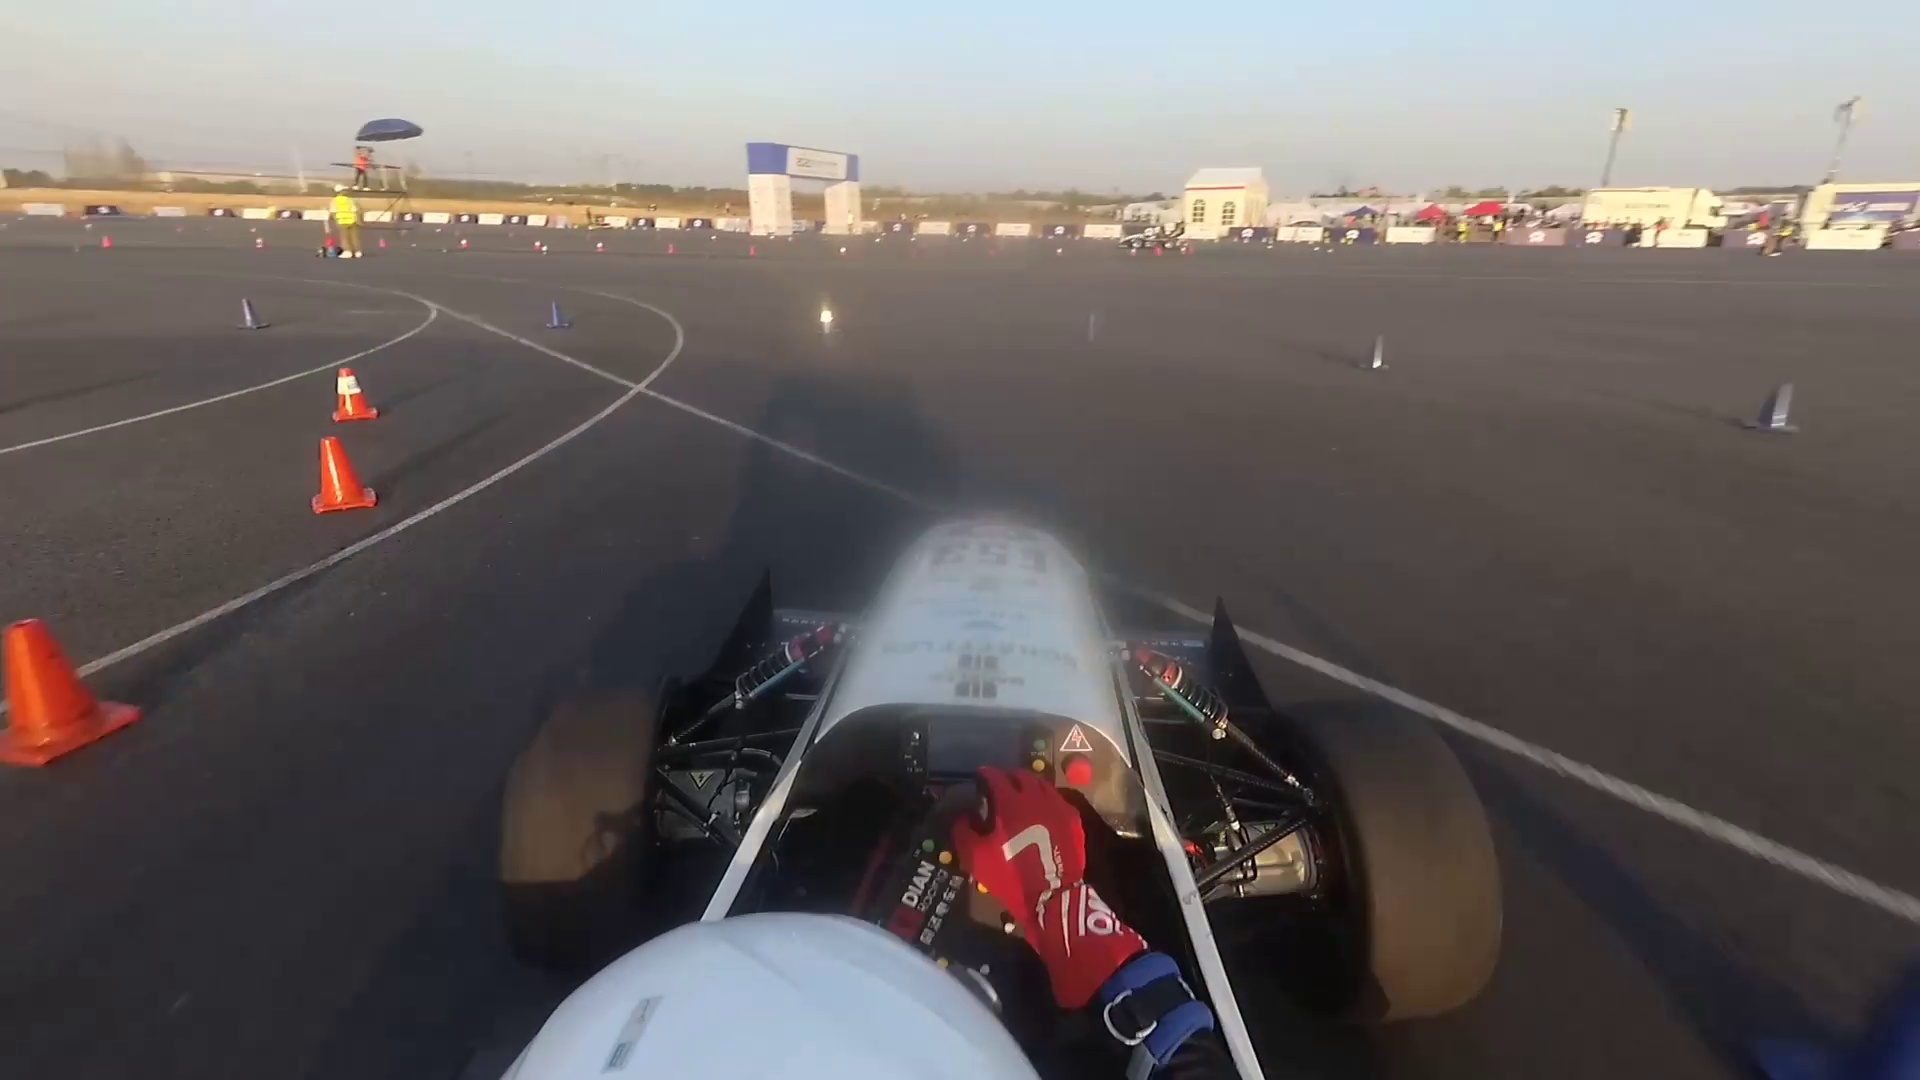blue_cone: (1739, 373, 1808, 443), (1354, 331, 1395, 378), (807, 301, 849, 338), (232, 295, 270, 332), (545, 302, 570, 334), (1083, 314, 1100, 344)
red_cone: (8, 620, 105, 762), (311, 436, 390, 516), (322, 367, 386, 431), (99, 233, 113, 251)
